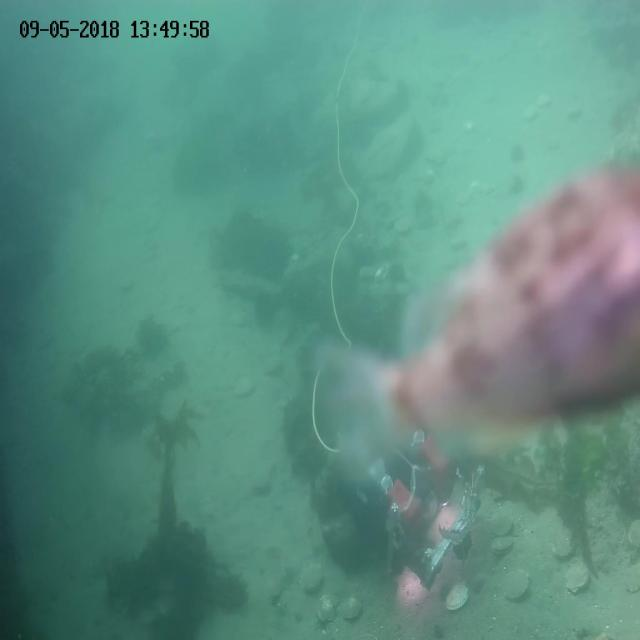scallop: (501, 564, 531, 600), (565, 558, 589, 592), (314, 593, 338, 624), (446, 580, 470, 610), (622, 556, 640, 592), (552, 534, 576, 561), (490, 509, 513, 533), (341, 595, 362, 620), (626, 515, 640, 548), (490, 534, 514, 553), (395, 216, 412, 237)
